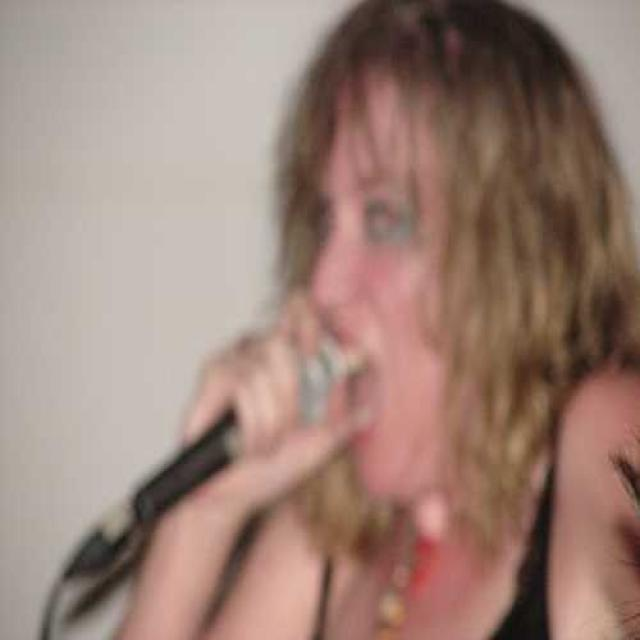microphone: (61, 328, 356, 577)
